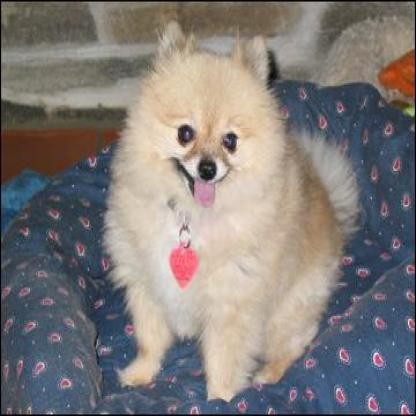Pomeranian: (103, 22, 357, 402)
